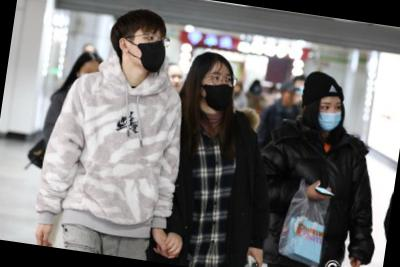with_mask: (127, 29, 171, 74), (200, 68, 236, 114), (318, 98, 344, 133)
without_mask: (166, 73, 186, 95)
